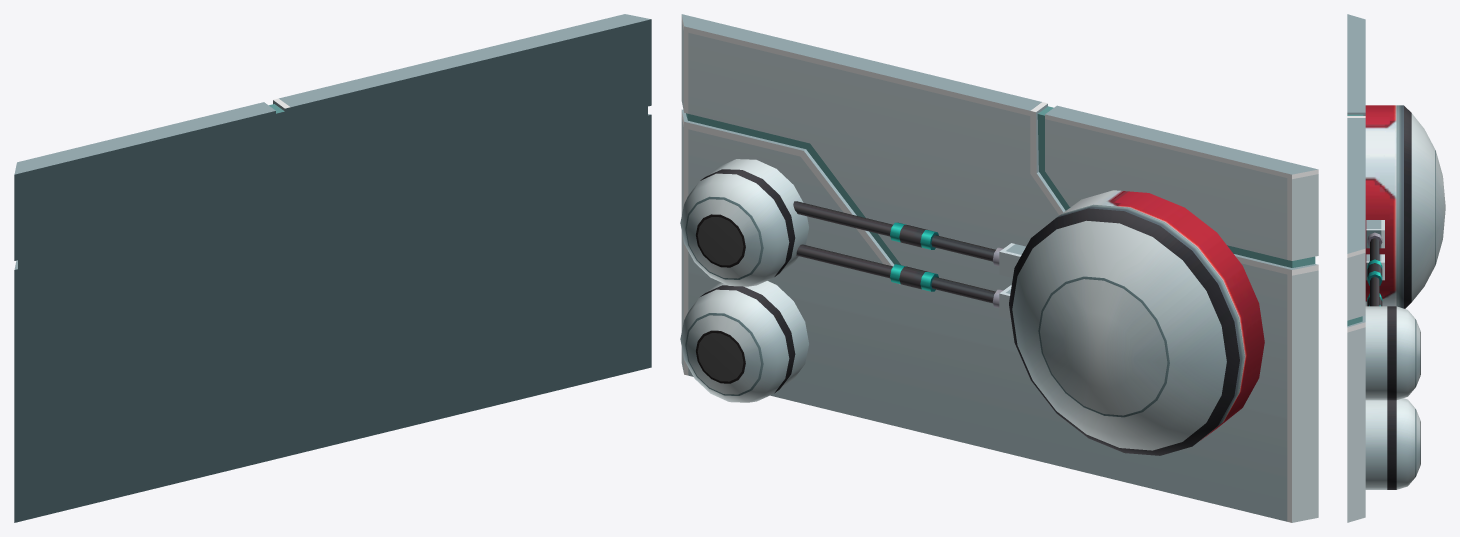
Rendered from SpaceBunkerMediumRoof.fbx.
3 views of the same model, side by side, from view 1: azimuth 30°, elevation 25°; view 2: azimuth 150°, elevation 25°; view 3: azimuth 270°, elevation 25° (orthographic). The views are drawn at different scales.
Visible parts, largest first — view 1: SpaceBunkerMediumRoof; view 2: SpaceBunkerMediumRoof; view 3: SpaceBunkerMediumRoof.
Part boxes in pixels (box(x1,y1,x2,y2)): SpaceBunkerMediumRoof: box(14, 14, 651, 522); SpaceBunkerMediumRoof: box(680, 14, 1318, 522); SpaceBunkerMediumRoof: box(1347, 14, 1445, 522).
Size of the model in its own units: 1148 by 600 by 199.
